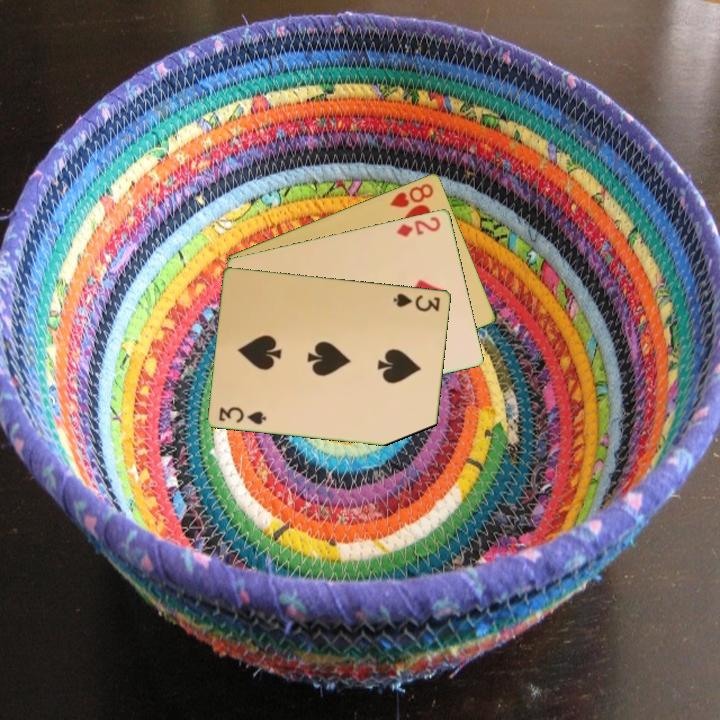2d: (393, 213, 444, 239)
3s: (390, 290, 443, 314), (216, 403, 269, 427)
8h: (386, 179, 437, 210)
